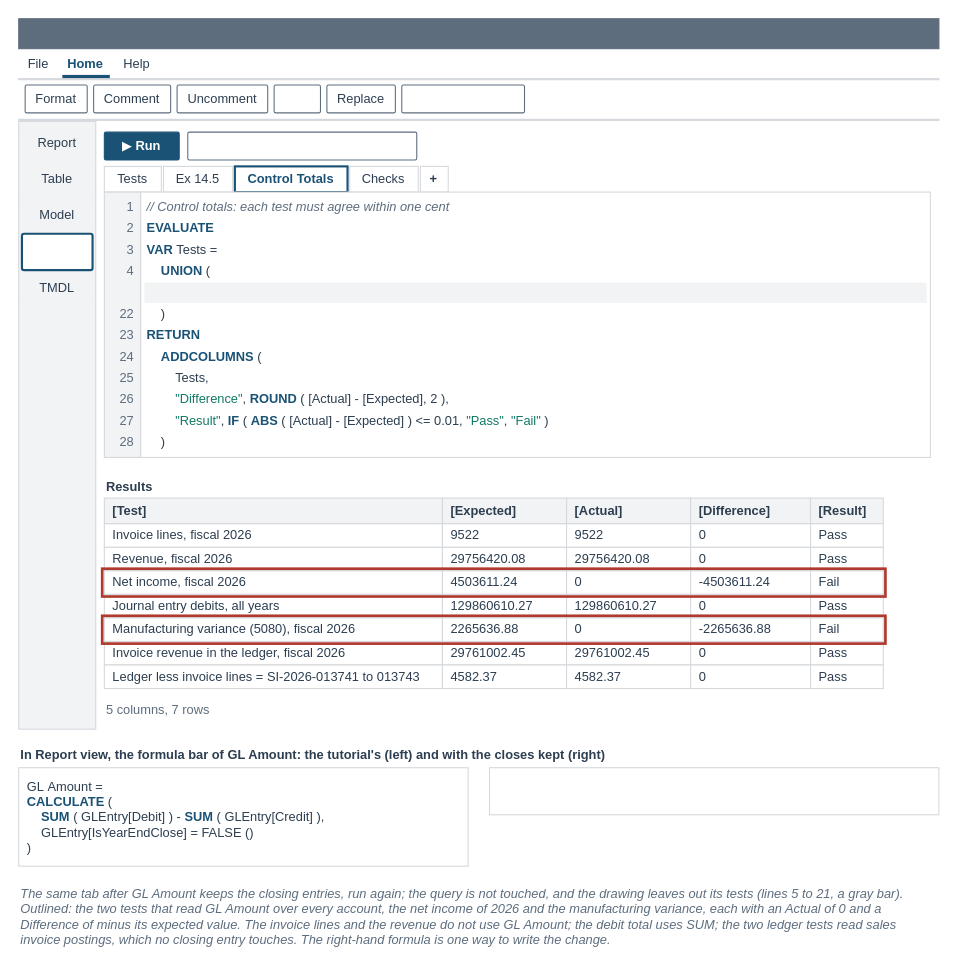
Some shapes in this 958 by 973 pixel diagram are drawn without their labels. Here are the shapes that lost their labels. From the top down, the centre of each, then its label:
At [478,33]: "Chapter 14 Exercises - Solutions - Power BI Desktop".
At [296,98]: "Find".
At [463,98]: "Command palette".
At [302,145]: "Update model with changes (0)".
At [56,251]: "DAX query".
At [535,292]: "… lines 5 to 21 not shown: the seven tests, each a ROW".
At [713,791]: "GL Amount = SUM ( GLEntry[Debit] ) - SUM ( GLEntry[Credit] )".
